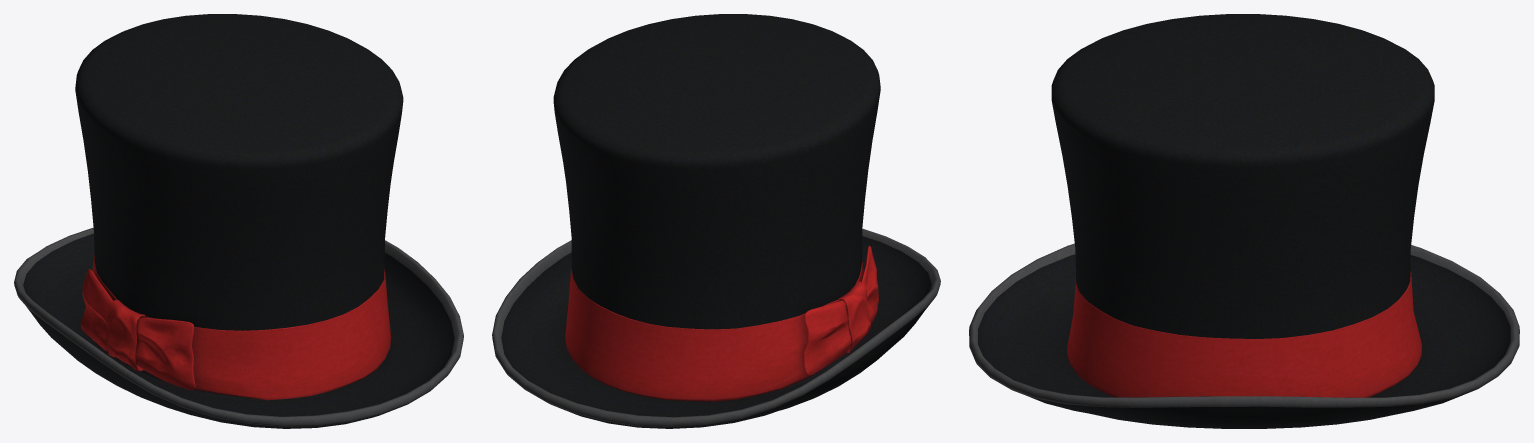
The model's file is Spitter.fbx.
3 views of the same model, side by side, from view 1: azimuth 30°, elevation 25°; view 2: azimuth 150°, elevation 25°; view 3: azimuth 270°, elevation 25° (orthographic). The views are drawn at different scales.
Visible parts, largest first — view 1: node_id96; view 2: node_id96; view 3: node_id96.
Boxes of the visible parts, left/top/right/bottom form: node_id96: left=14, top=14, right=463, bottom=428; node_id96: left=492, top=14, right=940, bottom=428; node_id96: left=969, top=14, right=1519, bottom=428.
Size of the model in its own units: 0.512 by 0.3862 by 0.6685.
Materials: 1 (1 with a texture image).
